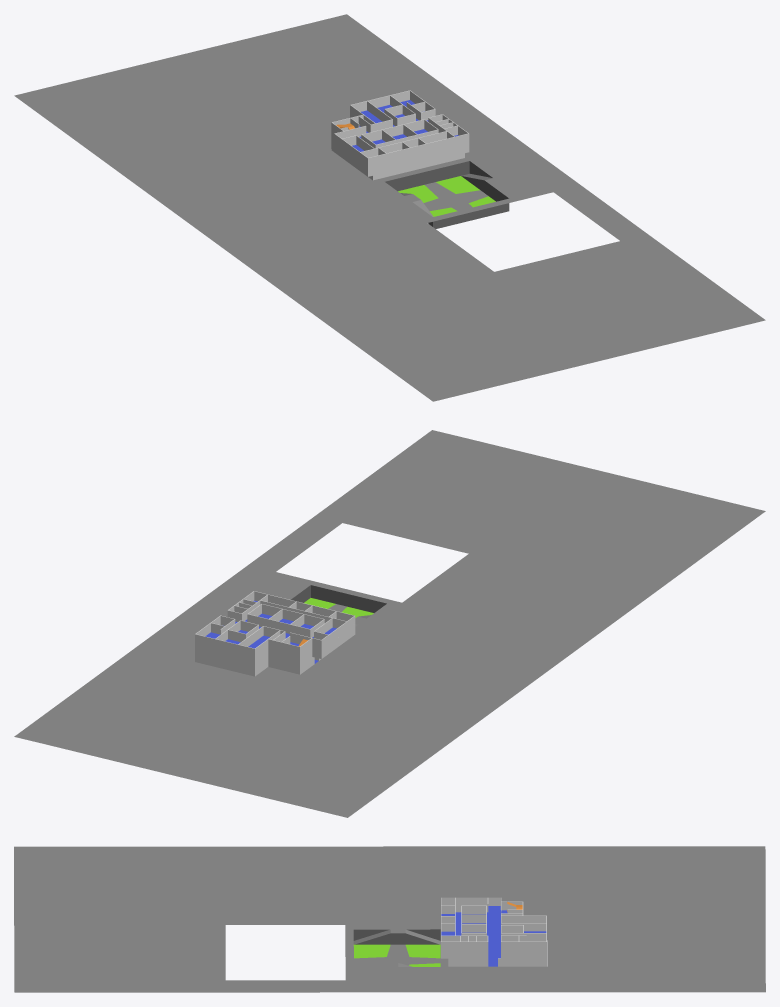
File: mappa.fbx
3 renders of one model, top to bottom at view 1: azimuth 30°, elevation 25°; view 2: azimuth 150°, elevation 25°; view 3: azimuth 270°, elevation 25°, orthographic. The views are drawn at different scales.
Visible parts, largest first — view 1: ground, F3P2.walls, F3P1.walls; view 2: ground, F3P2.walls, F3P1.walls, F3P0.walls; view 3: ground, F3P2.walls, F3P2.floor, F3P1.walls, F3P0.walls.
Part boxes in pixels (<box>): ground: <box>14,14,765,401</box>; F3P2.walls: <box>331,90,469,167</box>; F3P1.walls: <box>331,114,469,176</box>; ground: <box>14,430,765,817</box>; F3P2.walls: <box>195,591,355,657</box>; F3P1.walls: <box>195,625,355,667</box>; F3P0.walls: <box>195,653,320,676</box>; ground: <box>14,846,765,992</box>; F3P2.walls: <box>441,897,546,950</box>; F3P2.floor: <box>441,902,546,949</box>; F3P1.walls: <box>441,906,546,958</box>; F3P0.walls: <box>448,958,546,966</box>.
Size of the model in its own units: 1192 by 138 by 2590.
